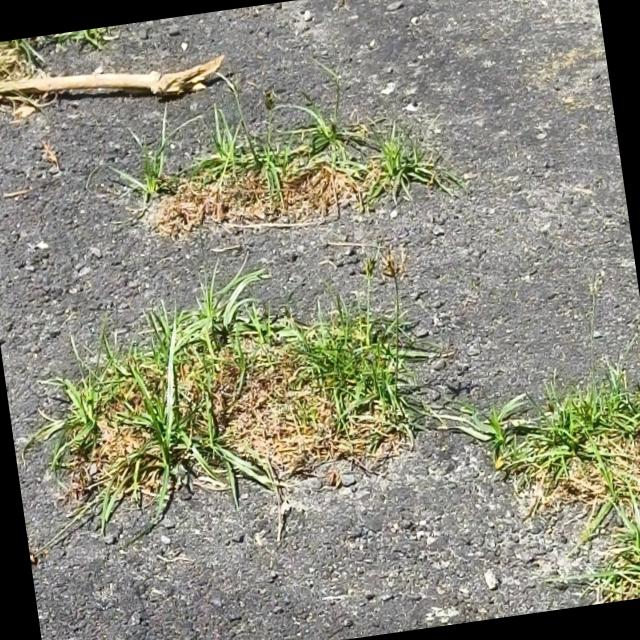cyperus: (345, 232, 413, 300), (582, 264, 612, 312)
